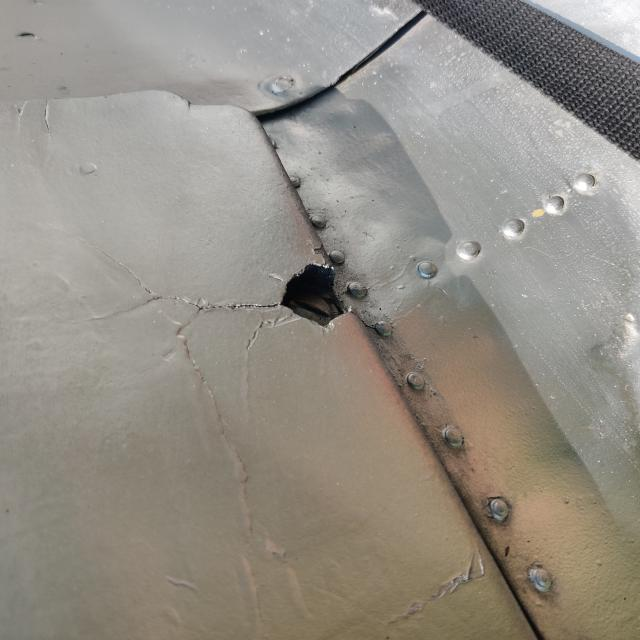Crack: (193, 264, 345, 326)
